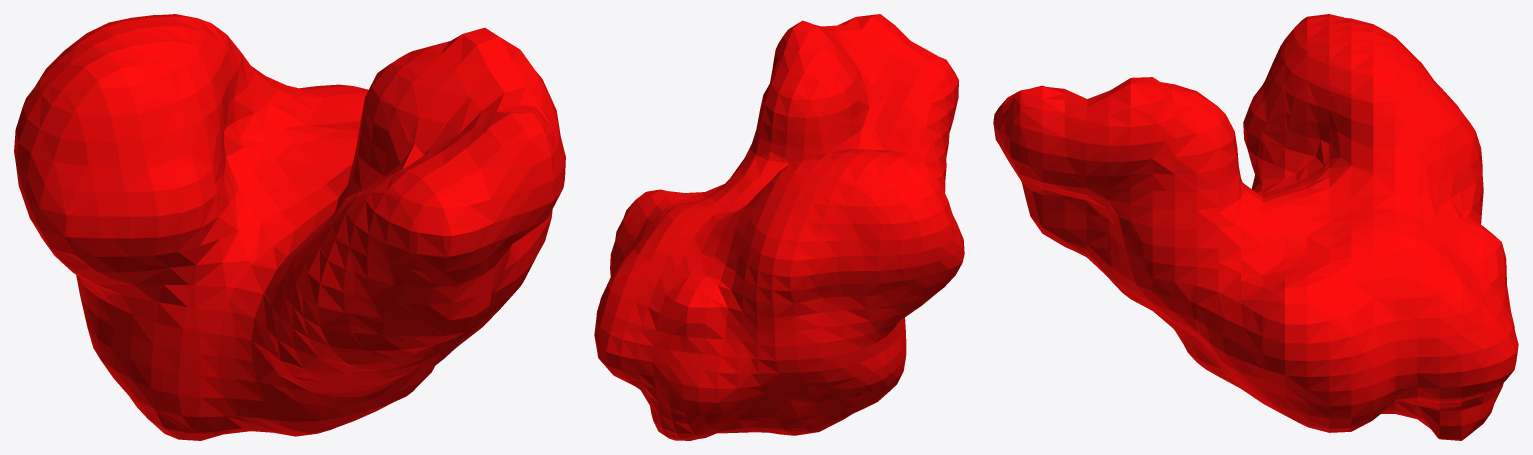
File: aroL_coarse.dae
3 renders of one model, left to right at view 1: azimuth 30°, elevation 25°; view 2: azimuth 150°, elevation 25°; view 3: azimuth 270°, elevation 25°, orthographic. The views are drawn at different scales.
Parts seen in each view (by area): view 1: aroL; view 2: aroL; view 3: aroL.
Part boxes in pixels (x1=…): aroL: x1=14, y1=14, x2=565, y2=440; aroL: x1=594, y1=14, x2=964, y2=440; aroL: x1=993, y1=14, x2=1518, y2=440.
Size of the model in its own units: 48.19 by 42.08 by 55.35.
